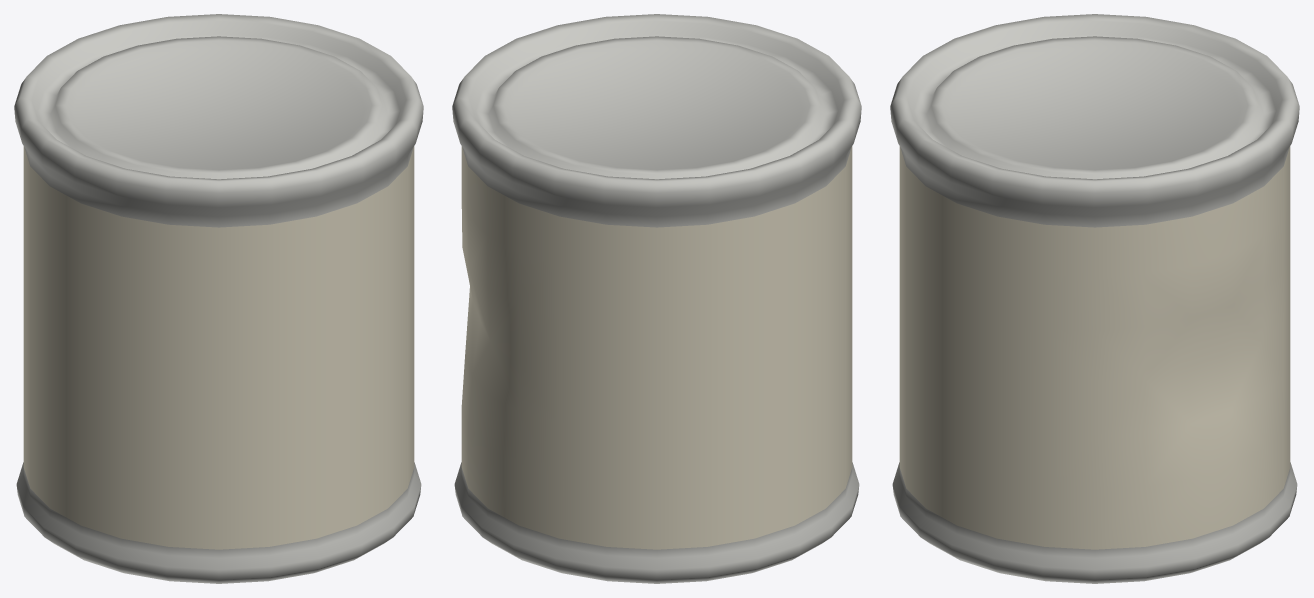
The model's file is js_can_1.glb.
3 views of the same model, side by side, from view 1: azimuth 30°, elevation 25°; view 2: azimuth 150°, elevation 25°; view 3: azimuth 270°, elevation 25° (orthographic).
Visible parts, largest first — view 1: js_can_1; view 2: js_can_1; view 3: js_can_1.
Part boxes in pixels (x1,y1,x2,y2): js_can_1: [14, 14, 423, 583]; js_can_1: [452, 14, 861, 583]; js_can_1: [890, 14, 1299, 583].
Size of the model in its own units: 0.174 by 0.19 by 0.174.
